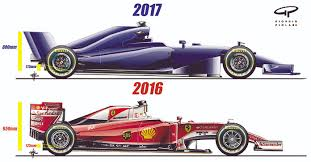f1_car: (20, 19, 306, 84), (25, 96, 287, 158)
